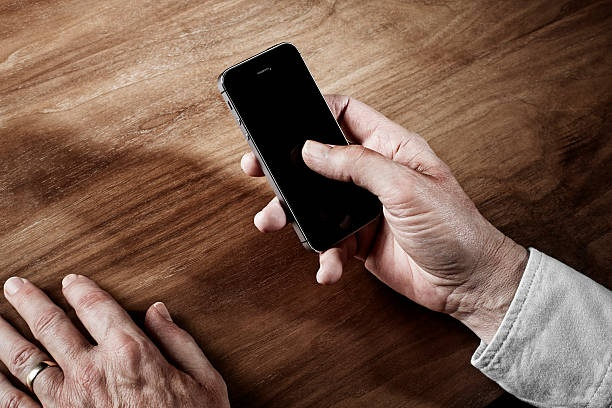phone: (215, 41, 383, 251)
